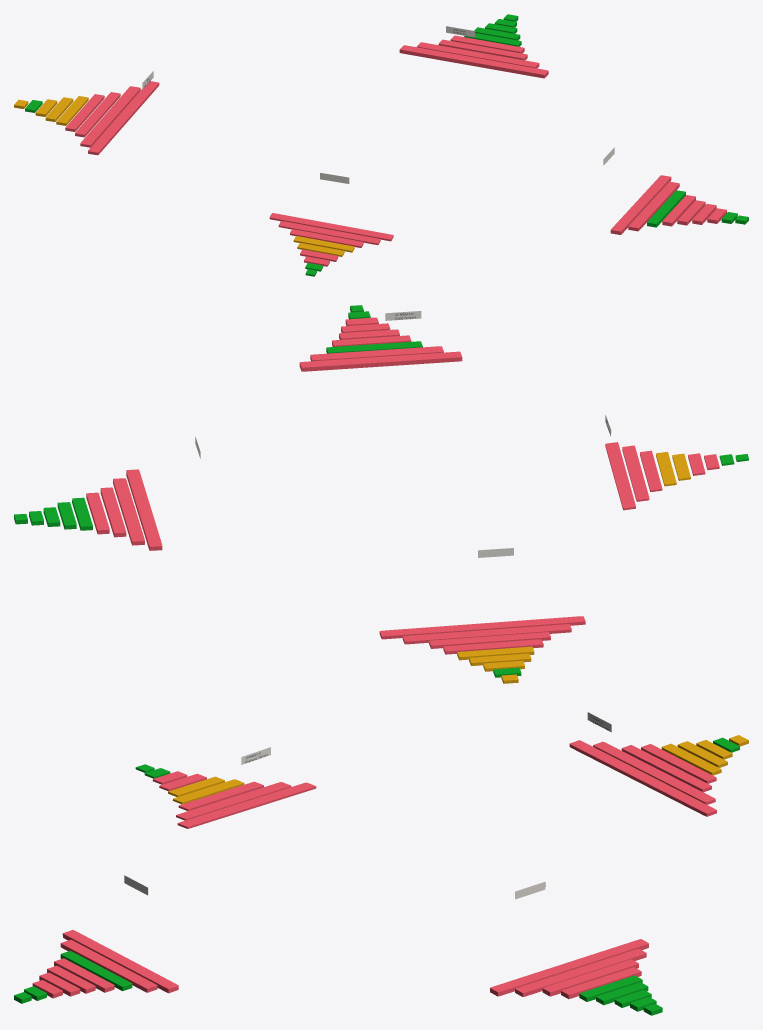
File: jump_domi20.gltf
The picture shows the model from 3 angles, top to bottom: view 1: azimuth 30°, elevation 25°; view 2: azimuth 150°, elevation 25°; view 3: azimuth 270°, elevation 25°; orthographic projection. The views are drawn at different scales.
Visible parts, largest first — view 1: Cube right (×14); view 2: Cube right (×12); view 3: Cube right (×19).
Part boxes in pixels (box(x1,y1,x2,y2)): Cube right (×14): box(65, 35, 685, 247); Cube right (×12): box(100, 341, 649, 654); Cube right (×19): box(47, 740, 721, 1001).
Bounding box in the file's own units: 60.58 × 7.19 × 67.82.
